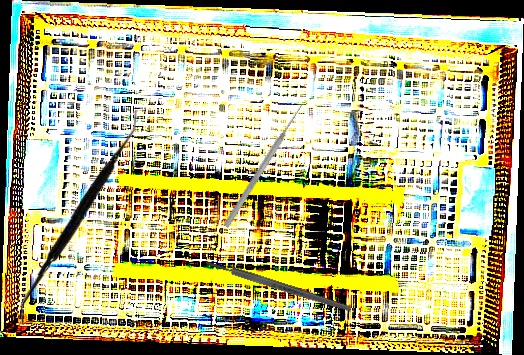Pusher: (222, 102, 306, 229)
Scalpel Handle: (204, 258, 353, 314)
Spatula Surgical: (17, 110, 143, 325)
